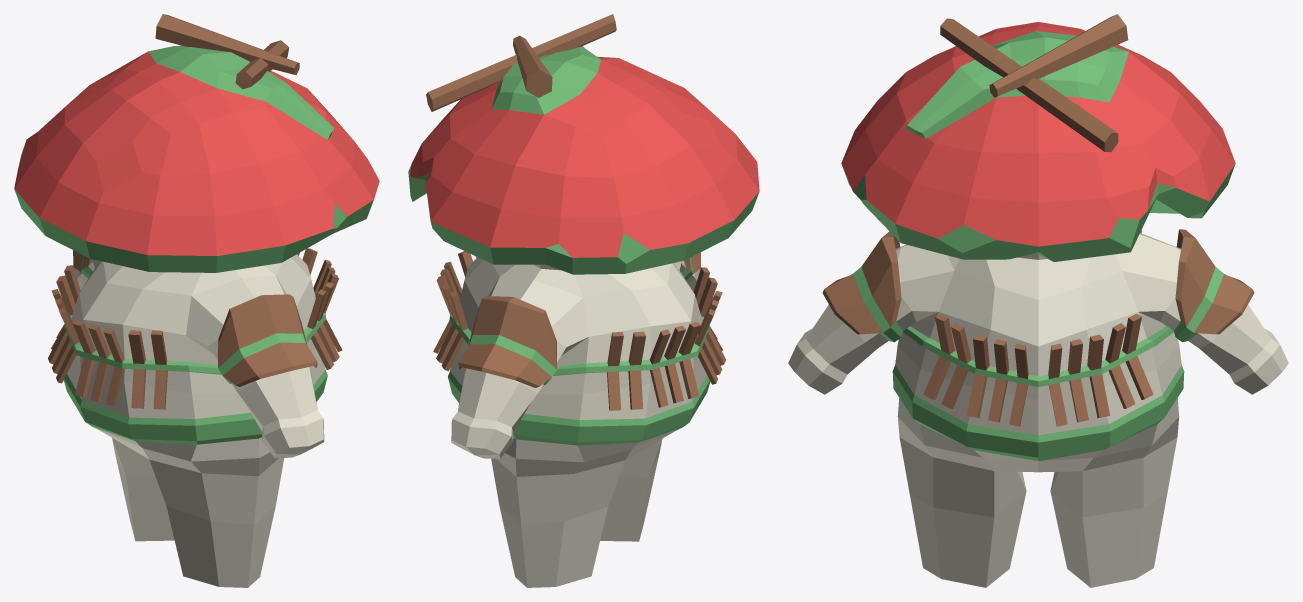
The model's file is Mushroom.fbx.
3 views of the same model, side by side, from view 1: azimuth 30°, elevation 25°; view 2: azimuth 150°, elevation 25°; view 3: azimuth 270°, elevation 25° (orthographic). The views are drawn at different scales.
Parts seen in each view (by area): view 1: Cylinder.002; view 2: Cylinder.002; view 3: Cylinder.002.
Part boxes in pixels (x1,y1,x2,y2): Cylinder.002: (14, 14, 379, 587); Cylinder.002: (408, 14, 759, 587); Cylinder.002: (788, 14, 1288, 587).
Bounding box in the file's own units: 278 × 432 × 353.
